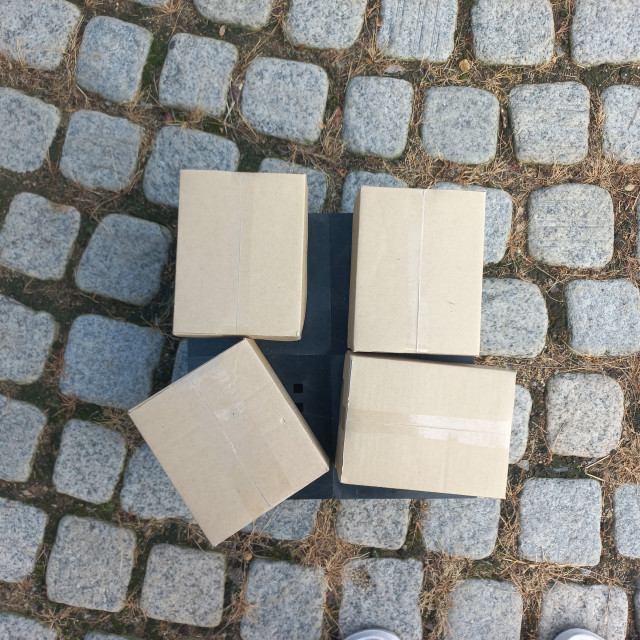box: (91, 126, 303, 333), (140, 336, 286, 519), (299, 170, 471, 309), (280, 349, 454, 485)
